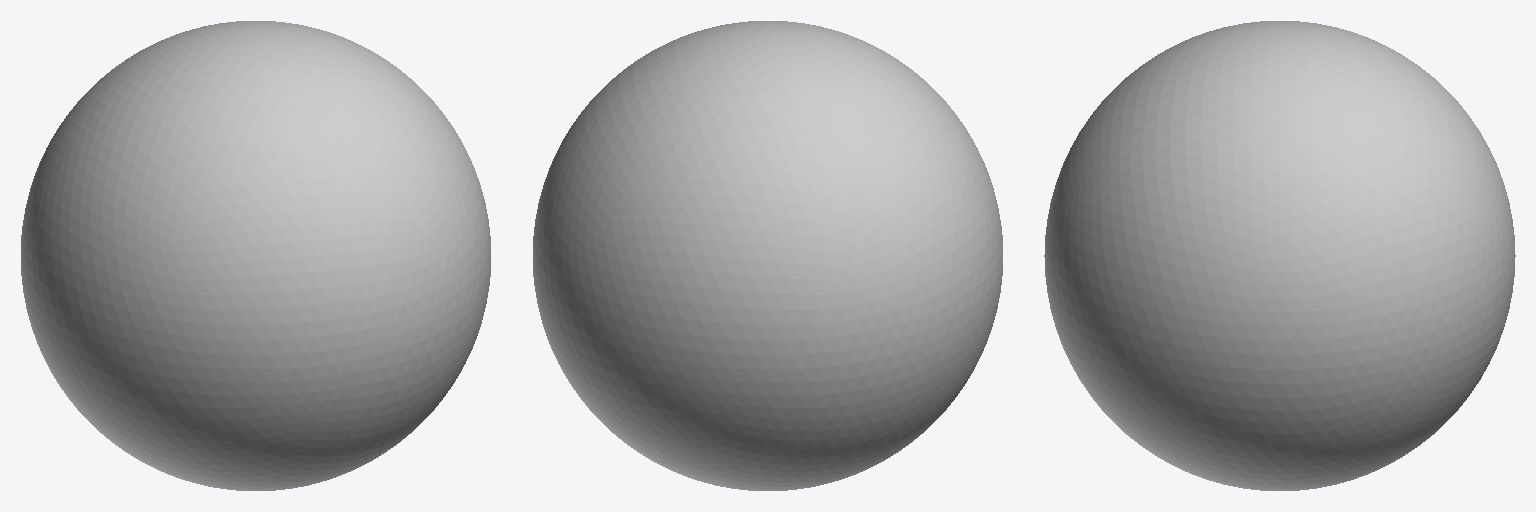
The model's file is world-v5.obj.
The picture shows the model from 3 angles: view 1: azimuth 30°, elevation 25°; view 2: azimuth 150°, elevation 25°; view 3: azimuth 270°, elevation 25°; orthographic projection.
Visible parts, largest first — view 1: Icosphere.028_Icosphere.005; view 2: Icosphere.028_Icosphere.005; view 3: Icosphere.028_Icosphere.005.
Part boxes in pixels (bbox=[...]): Icosphere.028_Icosphere.005: bbox=[21, 21, 490, 490]; Icosphere.028_Icosphere.005: bbox=[533, 21, 1002, 490]; Icosphere.028_Icosphere.005: bbox=[1044, 21, 1515, 490].
Bounding box in the file's own units: 30 × 30 × 30.